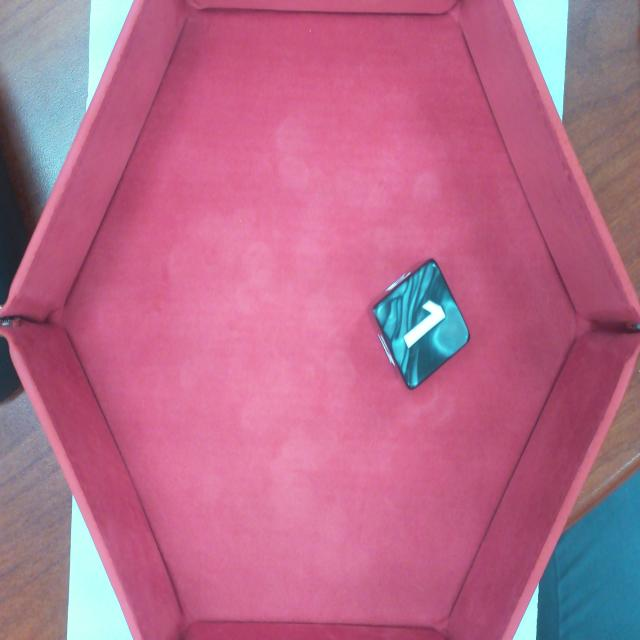dice: (371, 257, 472, 391)
